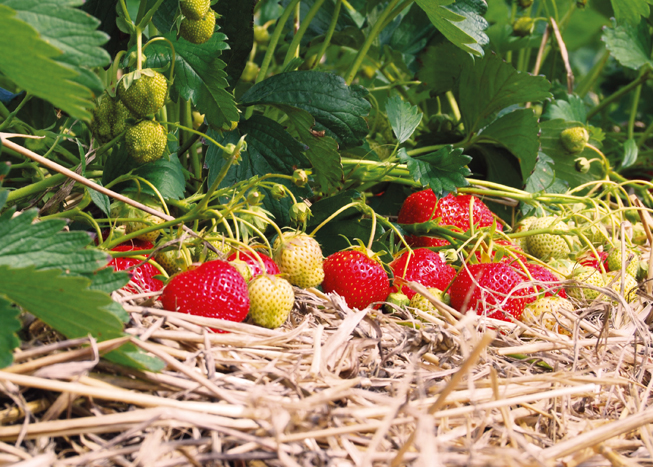ripe: (400, 176, 514, 263), (454, 253, 568, 327), (159, 260, 251, 339), (318, 246, 391, 320), (387, 243, 461, 306), (96, 240, 167, 300)
unripe: (265, 224, 328, 292), (246, 272, 295, 331), (118, 65, 166, 115), (122, 120, 170, 168), (182, 8, 217, 47), (174, 0, 214, 16)
